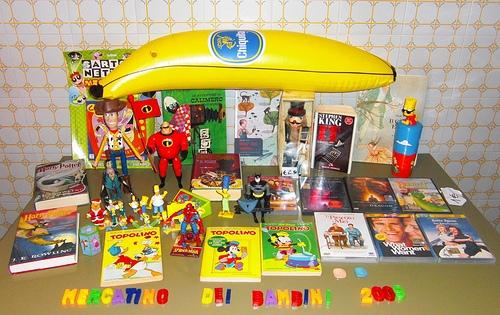banana: (90, 28, 395, 101)
